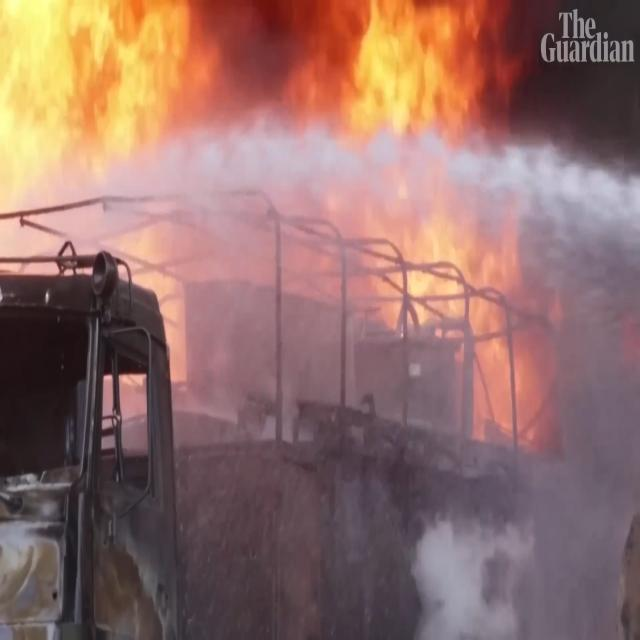Fire: (1, 0, 227, 240), (267, 0, 536, 161), (389, 206, 552, 444)
Smoke: (109, 112, 545, 298), (546, 250, 640, 640), (363, 505, 566, 640), (508, 116, 640, 300)
